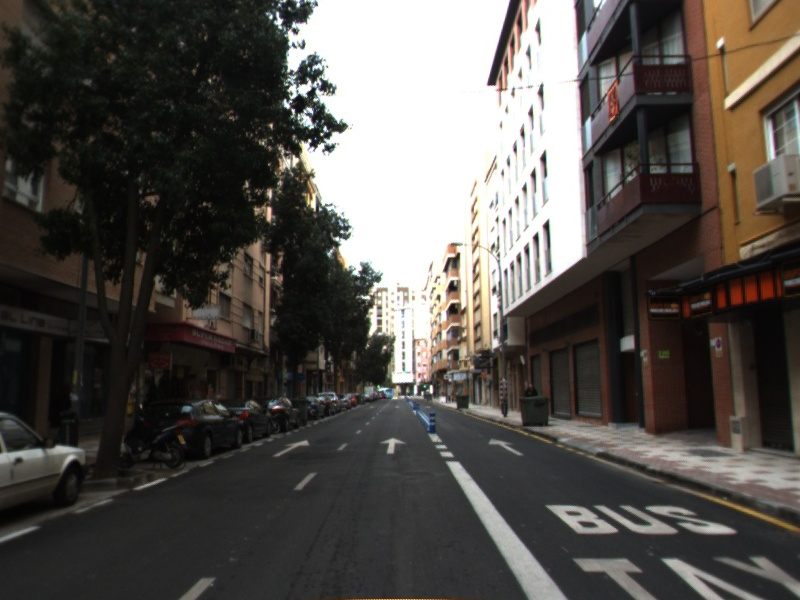STRAIGHT: (486, 436, 526, 458), (271, 438, 313, 458), (378, 436, 408, 456)
